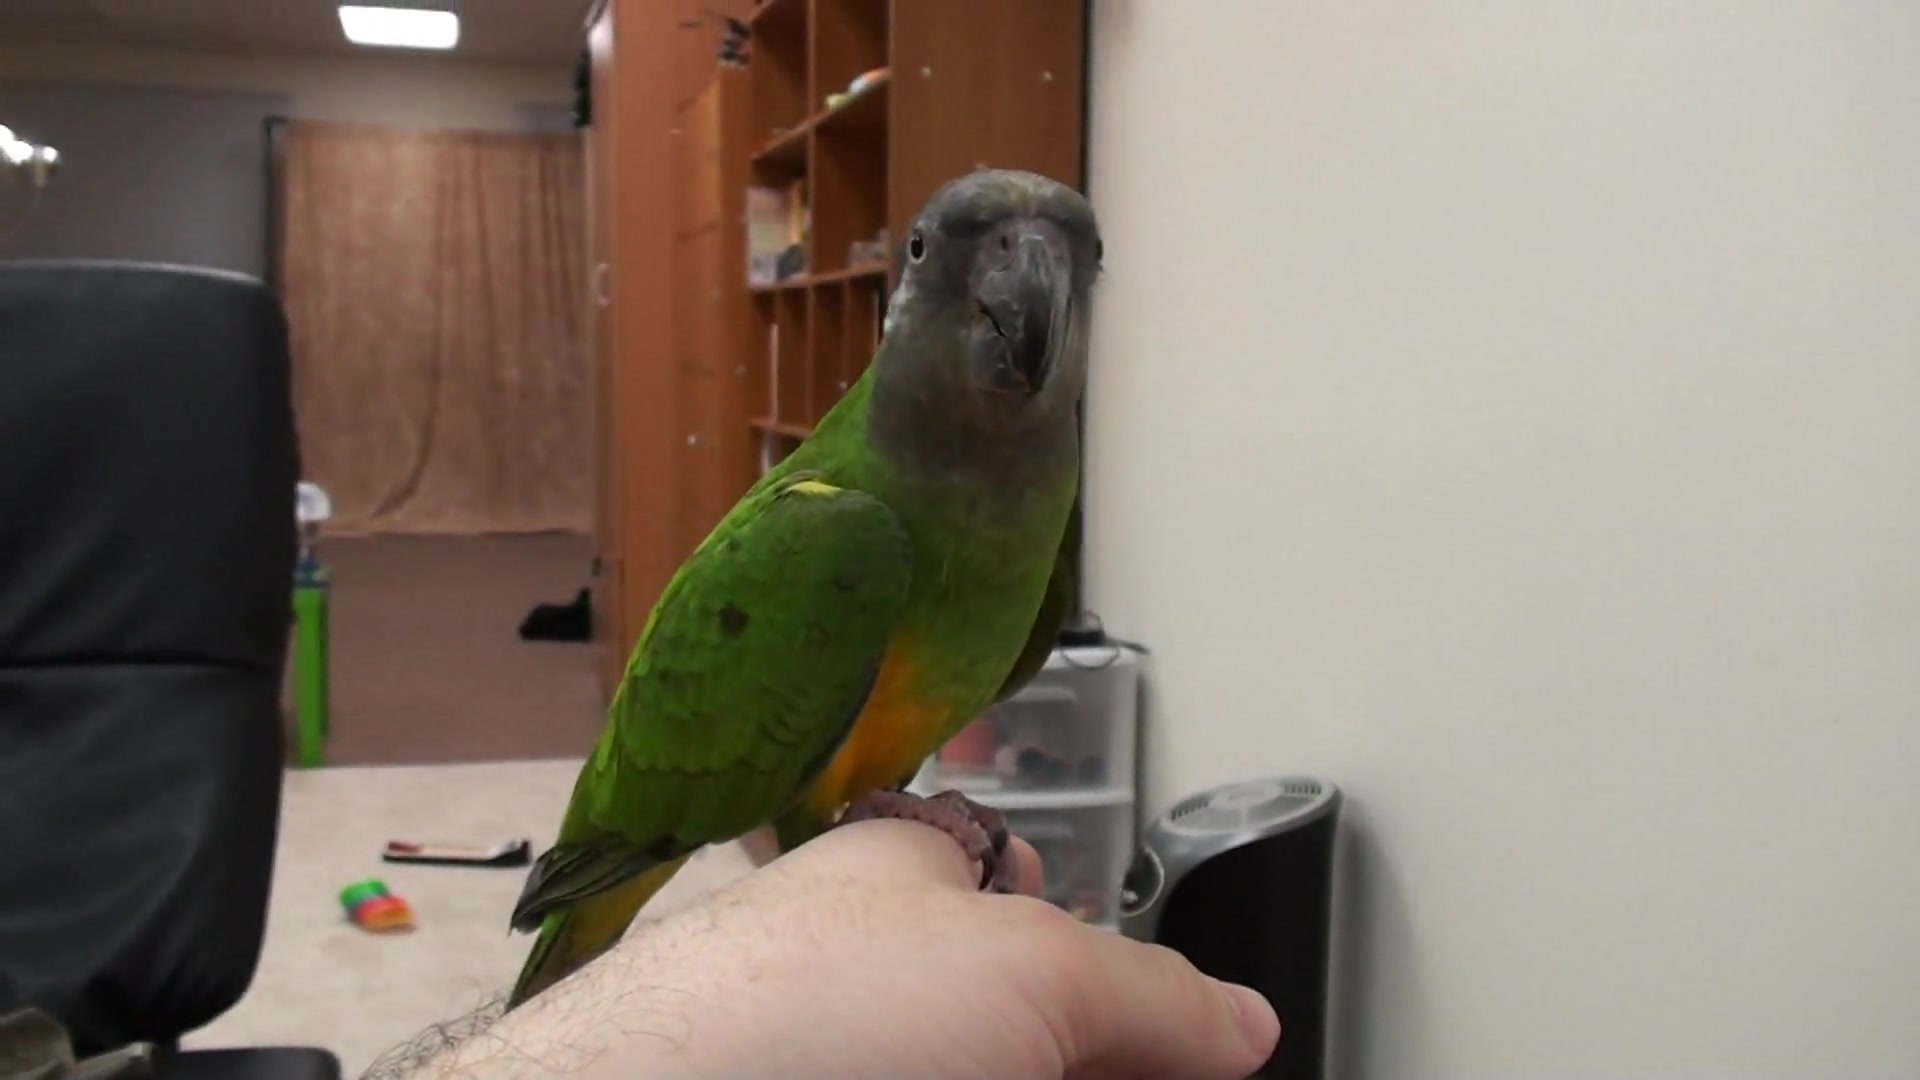bird: (506, 169, 1109, 1011)
